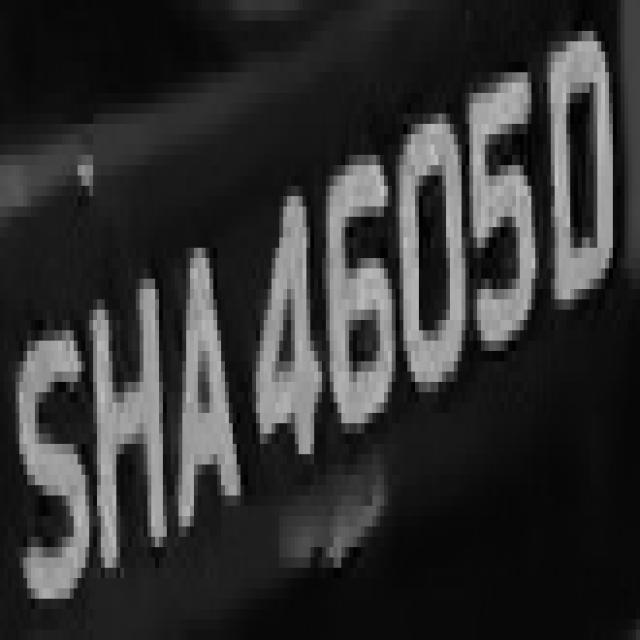0: (388, 93, 469, 402)
4: (217, 155, 322, 495)
5: (469, 72, 543, 392)
6: (322, 124, 396, 444)
A: (163, 196, 244, 578)
D: (539, 11, 617, 330)
H: (74, 248, 174, 588)
S: (8, 299, 85, 599)
